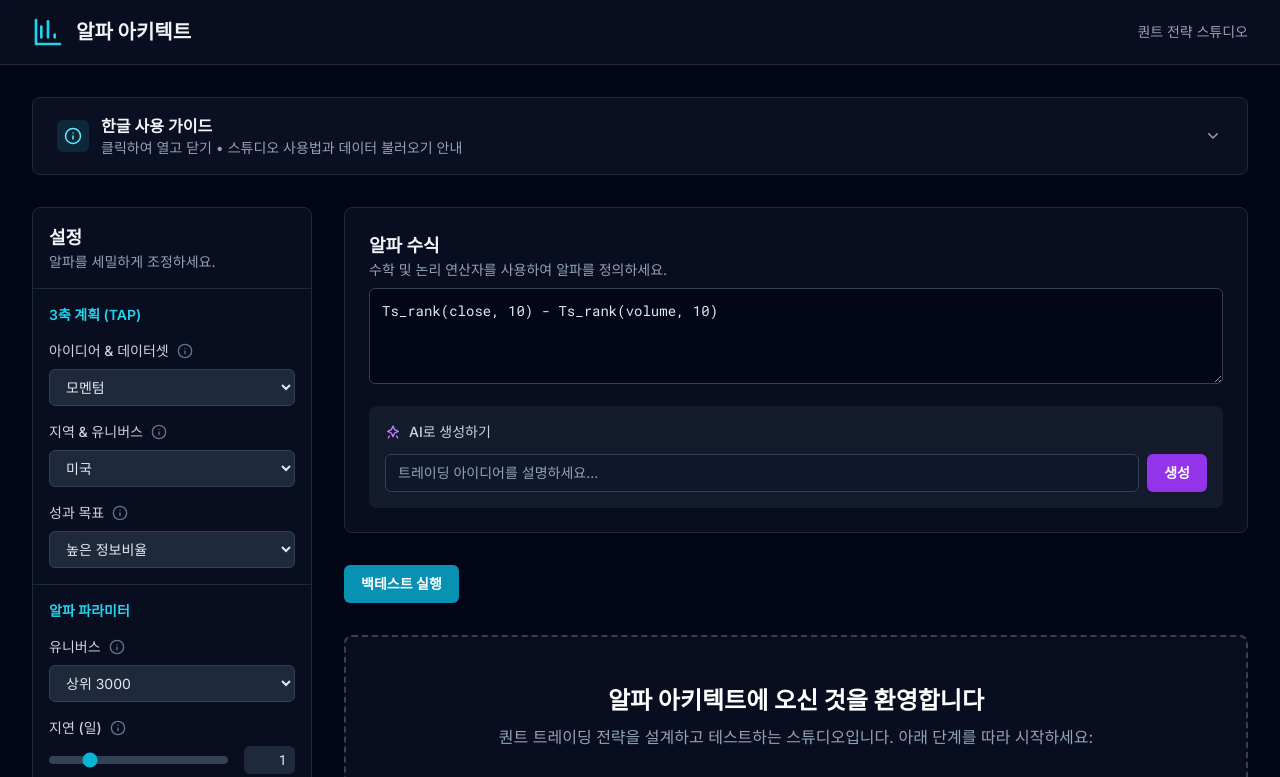
Scenario: App › should show error when AI prompt is empty
The image size is (1280, 777).
Expected: the field with placeholder "트레이딩 아이디어를 설명하세요..." is shown, [385, 454, 1139, 492]
// Leave input empty and click generate
Step 1. Click the button "생성" → (1177, 473), box [1147, 454, 1207, 492]
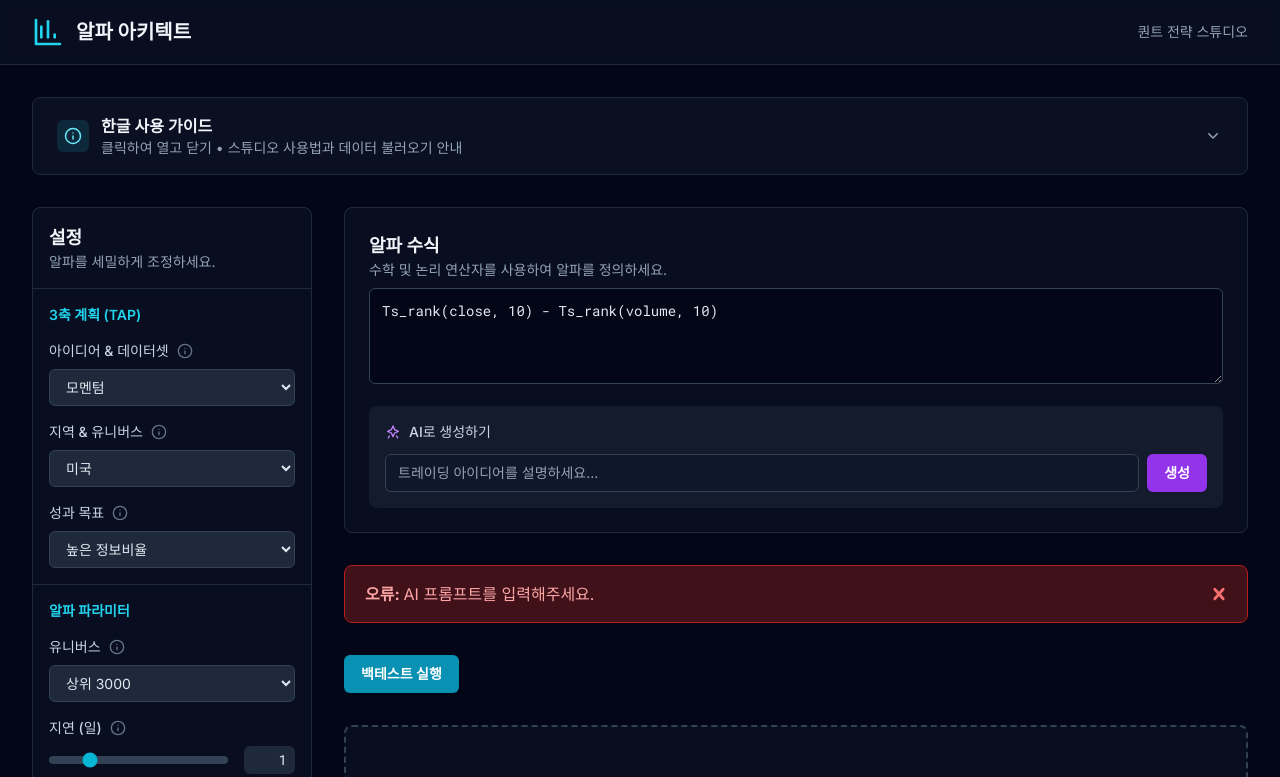
Expected: the message "오류: AI 프롬프트를 입력해주세요." is shown, [344, 565, 1248, 623]
Expected: the text "AI 프롬프트를 입력해주세요." is shown, [404, 584, 594, 604]
